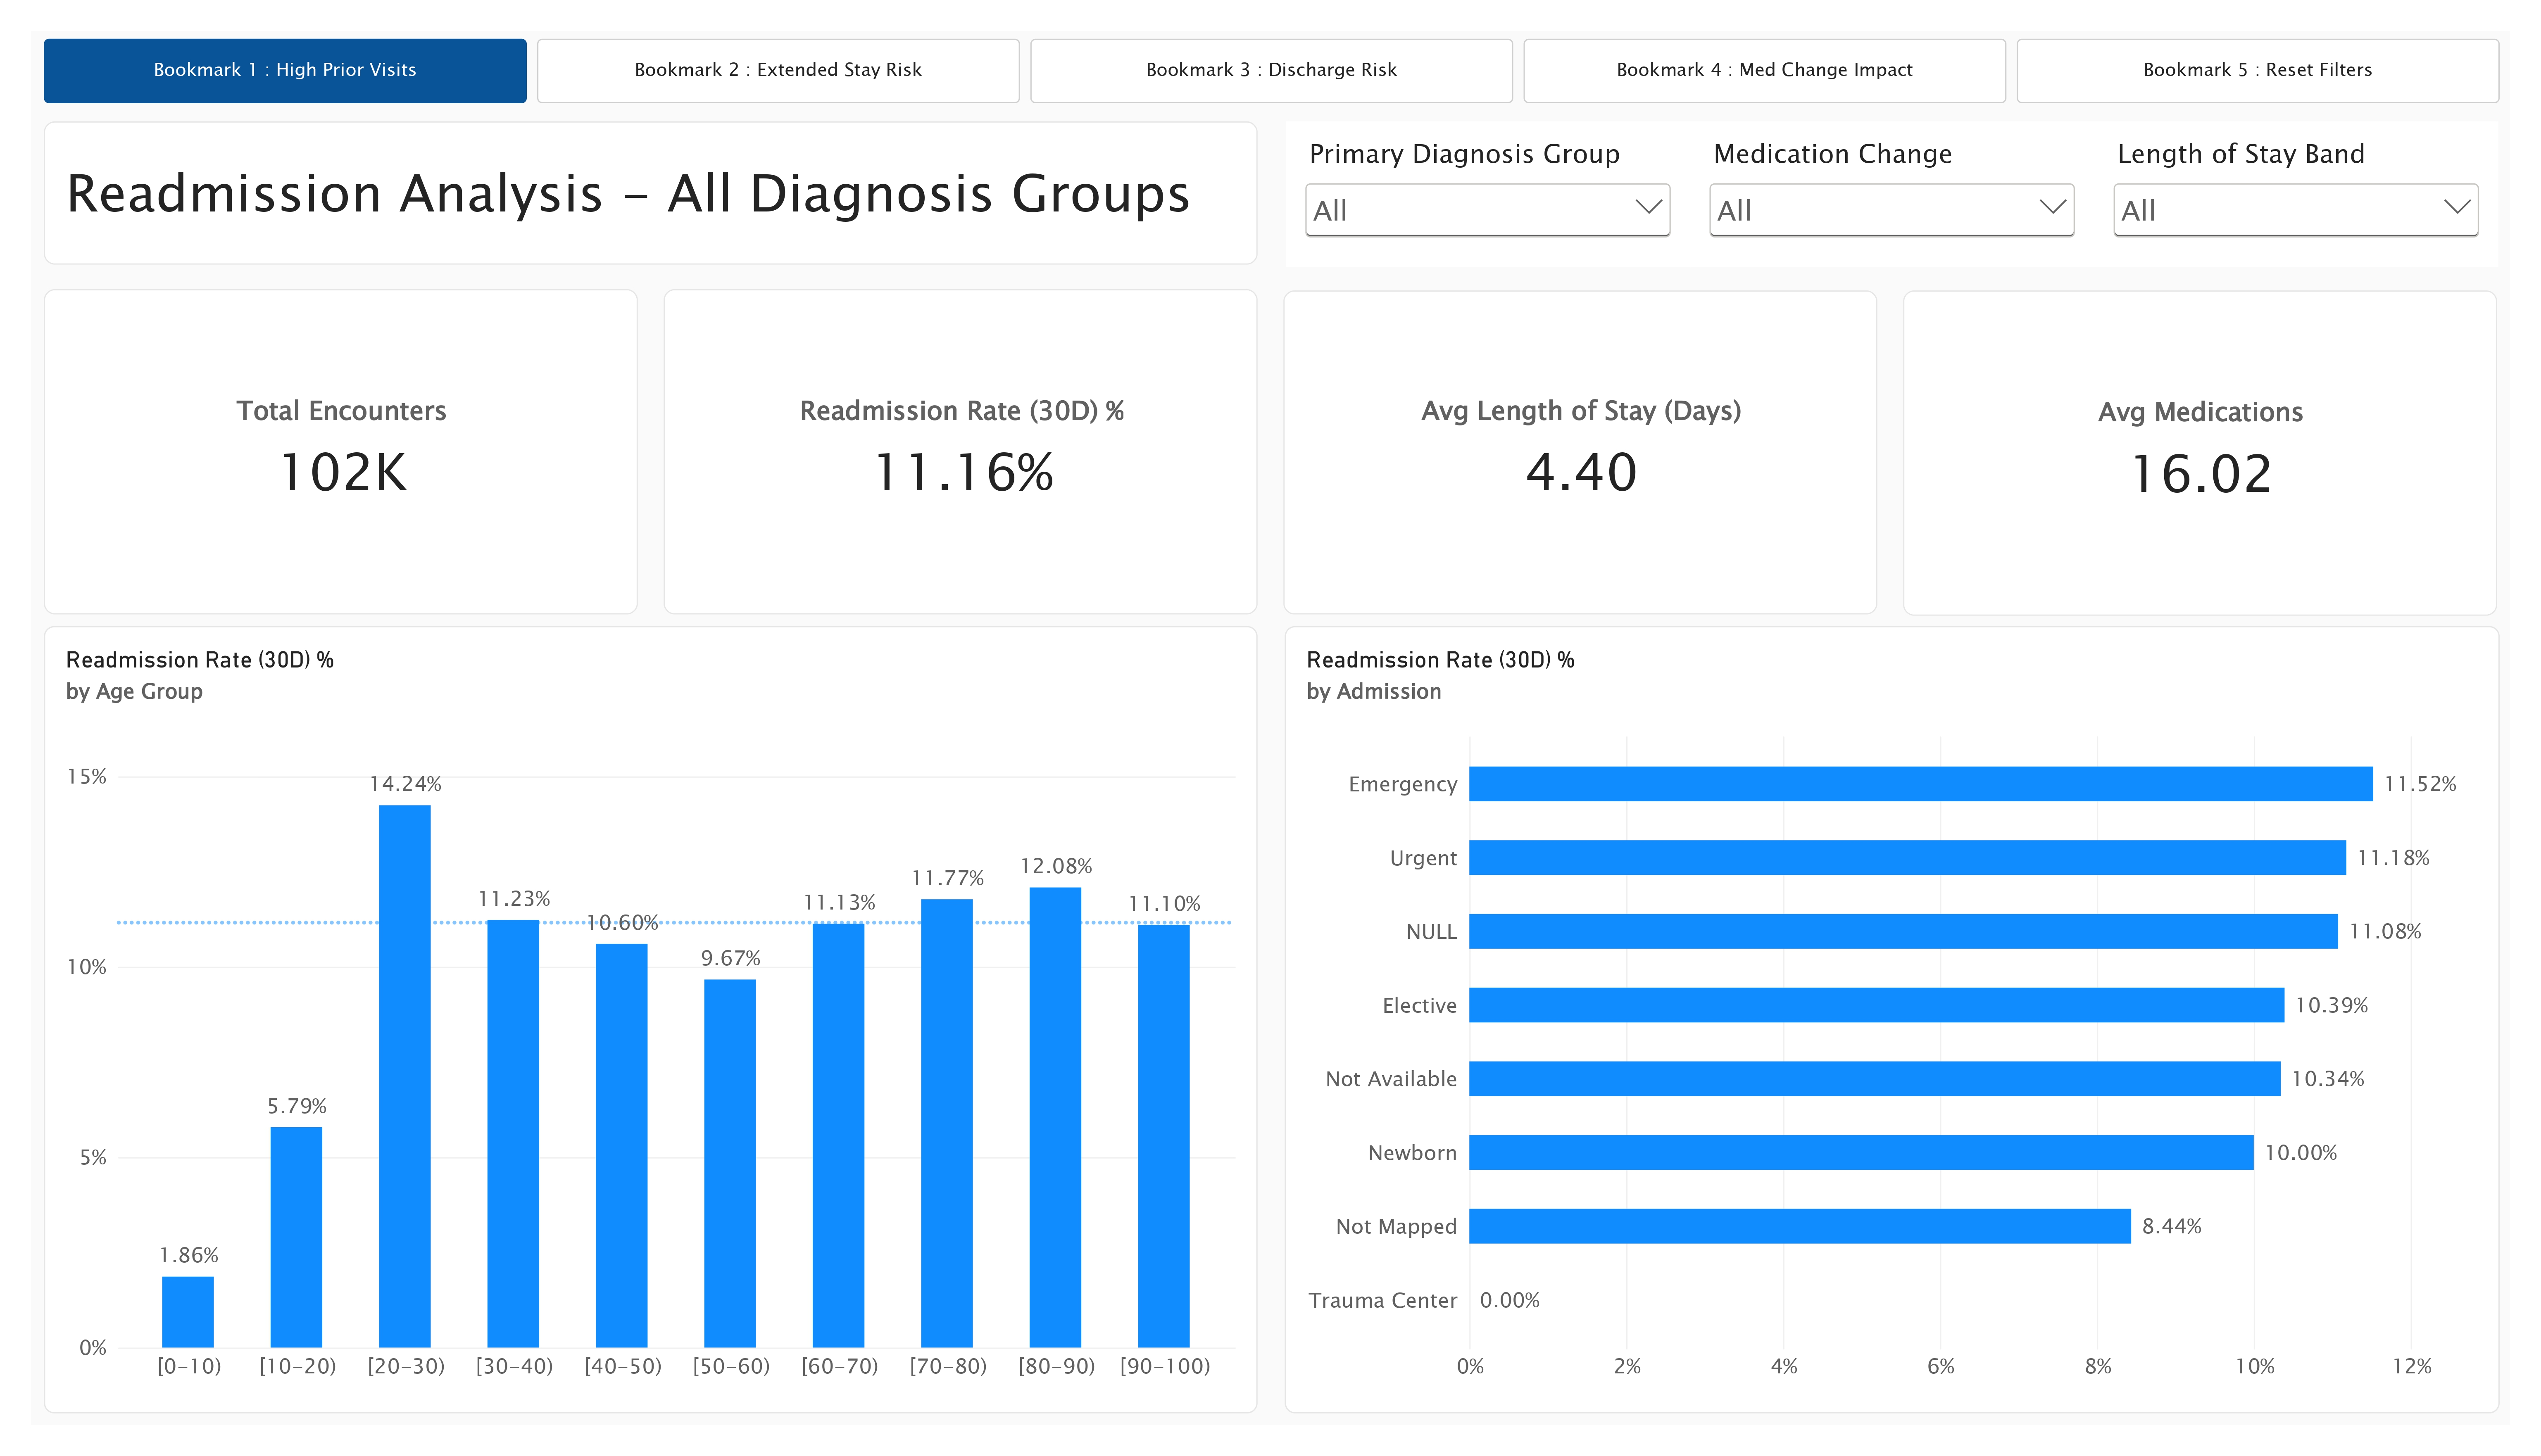

The page's visual inventory and layout, read from the dashboard file:
{"tool":"powerbi","page":{"name":"Overview","canvas":[1920,1080],"ordinal":0},"visuals":[{"type":"cardVisual","fields":{"Data":["_Measures.Dynamic Title Diagnosis"]},"box":[0,59.6,960,130.9],"z":0},{"type":"slicer","fields":{"Values":["Fact_Encounters.Primary Diagnosis Group"]},"box":[971.8,69.6,312.9,113.1],"z":1000},{"type":"cardVisual","fields":{"Data":["_Measures.Avg Length of Stay"]},"box":[960,190.9,480,270.9],"z":2000},{"type":"slicer","fields":{"Values":["Fact_Encounters.Change"]},"box":[1284.7,69.6,312.9,113.1],"z":3000},{"type":"cardVisual","fields":{"Data":["_Measures.Total Encounters"]},"box":[0,190.4,480,271.7],"z":4000},{"type":"slicer","fields":{"Values":["Fact_Encounters.Length of Stay Band"]},"box":[1597.6,69.6,312.9,113.1],"z":5000},{"type":"cardVisual","fields":{"Data":["_Measures.Readmission Rate (30D) %"]},"box":[480,190.4,480,271.7],"z":6000},{"type":"cardVisual","fields":{"Data":["_Measures.Avg Medications"]},"box":[1440,190.9,480,271.7],"z":7000},{"type":"bookmarkNavigator","box":[10.3,6.2,1903.6,49.3],"z":8000},{"type":"columnChart","title":"Readmission Rate (30D) %","fields":{"Category":["Fact_Encounters.Age Group"],"Y":["_Measures.Readmission Rate (30D) %"]},"box":[9.6,460.9,940.9,610],"z":9000},{"type":"clusteredBarChart","title":"Readmission Rate (30D) %","fields":{"Category":["Dim_AdmissionType.Admission"],"Y":["_Measures.Readmission Rate (30D) %"]},"box":[971.5,460.9,940.9,610],"z":10000}]}

Visuals, with their boxes on the page's 1920x1080 design canvas (x1, y1, x2, y2). These are canvas units, not pixel positions in the 2541x1456 screenshot, which may show the page scaled, cropped or inside an application window:
cardVisual - _Measures.Dynamic Title Diagnosis: l=0, t=60, r=960, b=190
slicer - Fact_Encounters.Primary Diagnosis Group: l=972, t=70, r=1285, b=183
cardVisual - _Measures.Avg Length of Stay: l=960, t=191, r=1440, b=462
slicer - Fact_Encounters.Change: l=1285, t=70, r=1598, b=183
cardVisual - _Measures.Total Encounters: l=0, t=190, r=480, b=462
slicer - Fact_Encounters.Length of Stay Band: l=1598, t=70, r=1910, b=183
cardVisual - _Measures.Readmission Rate (30D) %: l=480, t=190, r=960, b=462
cardVisual - _Measures.Avg Medications: l=1440, t=191, r=1920, b=463
bookmarkNavigator: l=10, t=6, r=1914, b=56
"Readmission Rate (30D) %" columnChart: l=10, t=461, r=950, b=1071
"Readmission Rate (30D) %" clusteredBarChart: l=972, t=461, r=1912, b=1071
